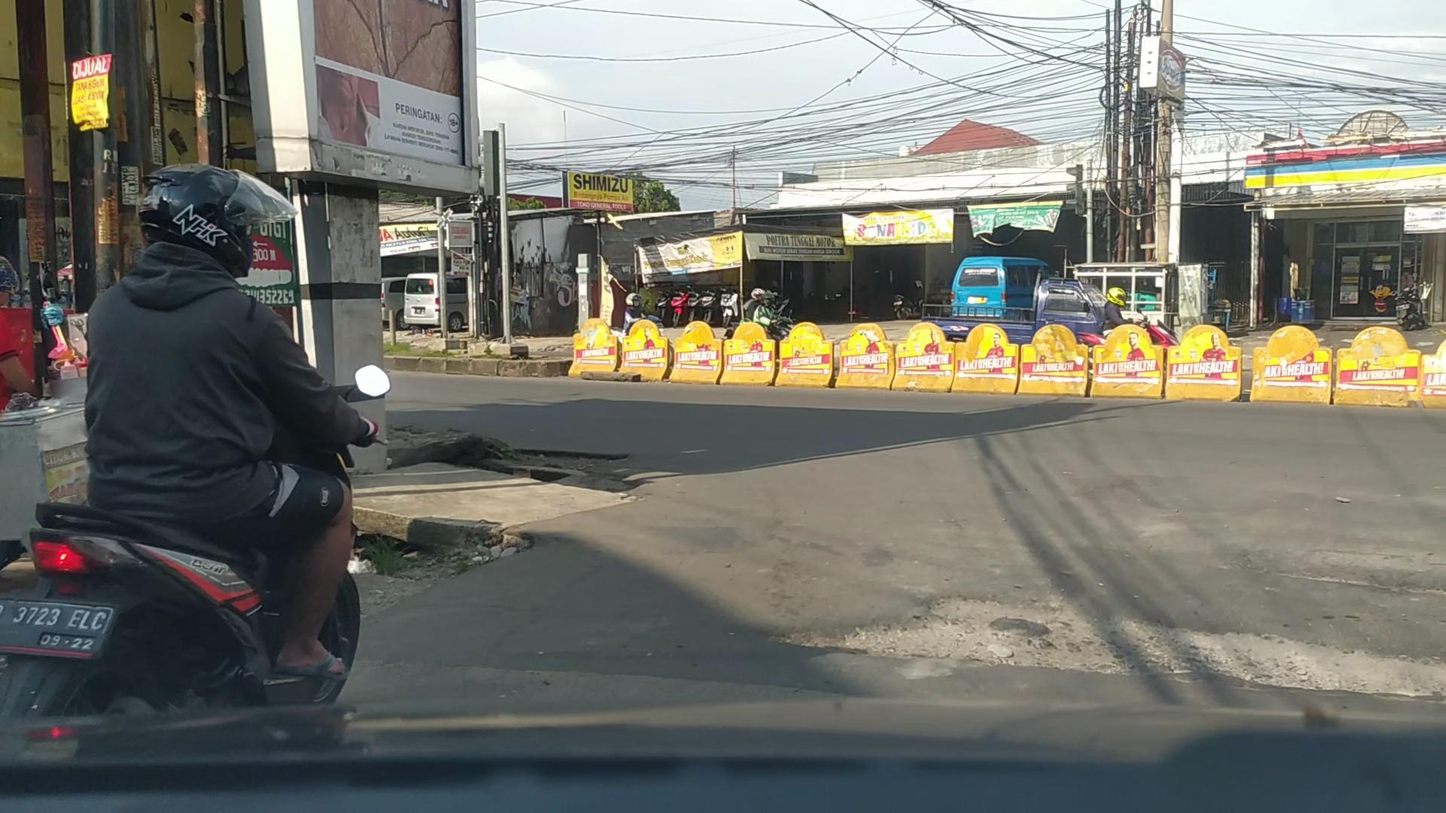pothole: (513, 450, 618, 467)
